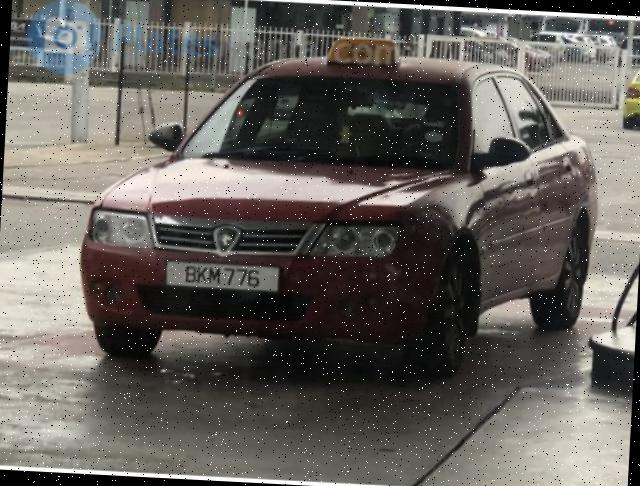License_Plate: (153, 256, 294, 311)
car: (71, 27, 606, 373)
